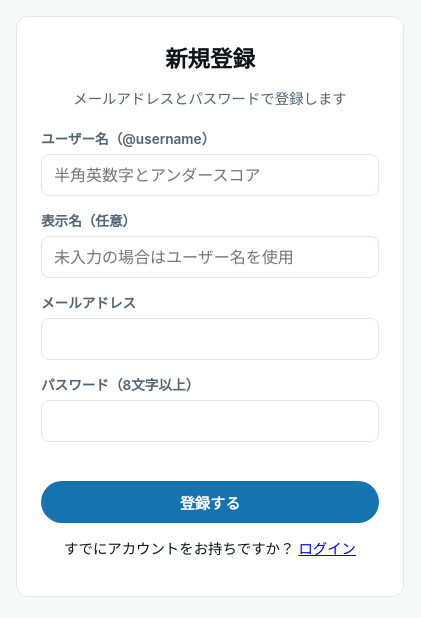
RegisterPage › shows the API error message when registration fails (e.g. duplicate email)
Type "alice" into the field labelled "ユーザー名（@username）" at coordinates (210, 175), box [41,154,379,196]
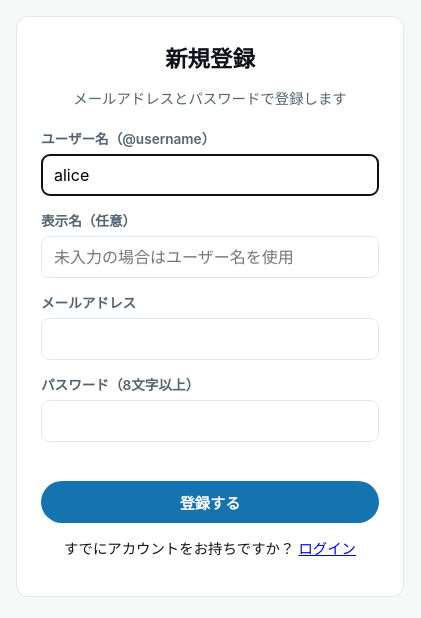
Type "alice@example.com" into the field labelled "メールアドレス" at coordinates (210, 339), box [41,318,379,360]
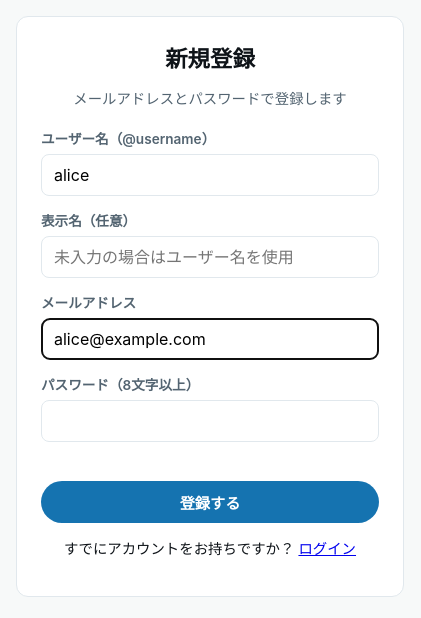
Type "password123" into the password field labelled "パスワード（8文字以上）" at coordinates (210, 421), box [41,400,379,442]
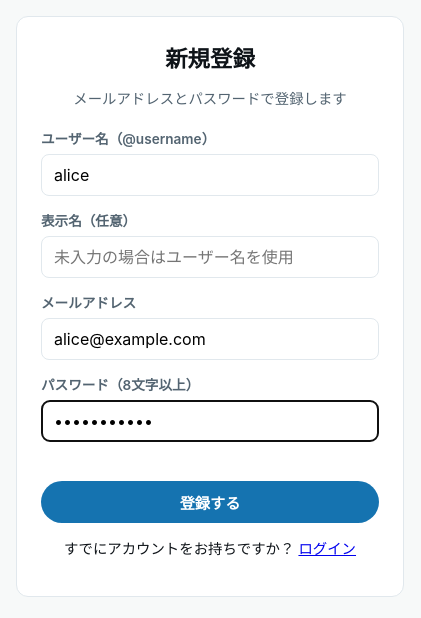
Click the button "登録する" at coordinates (210, 502), box [41,481,379,523]
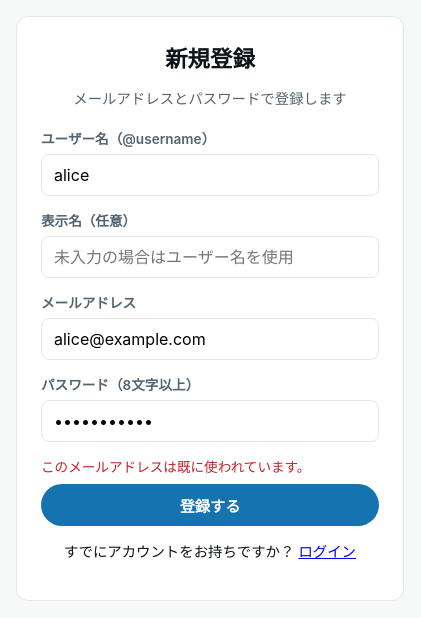
expect the text "このメールアドレスは既に使われています。" is shown: met, box [41,459,310,475]
